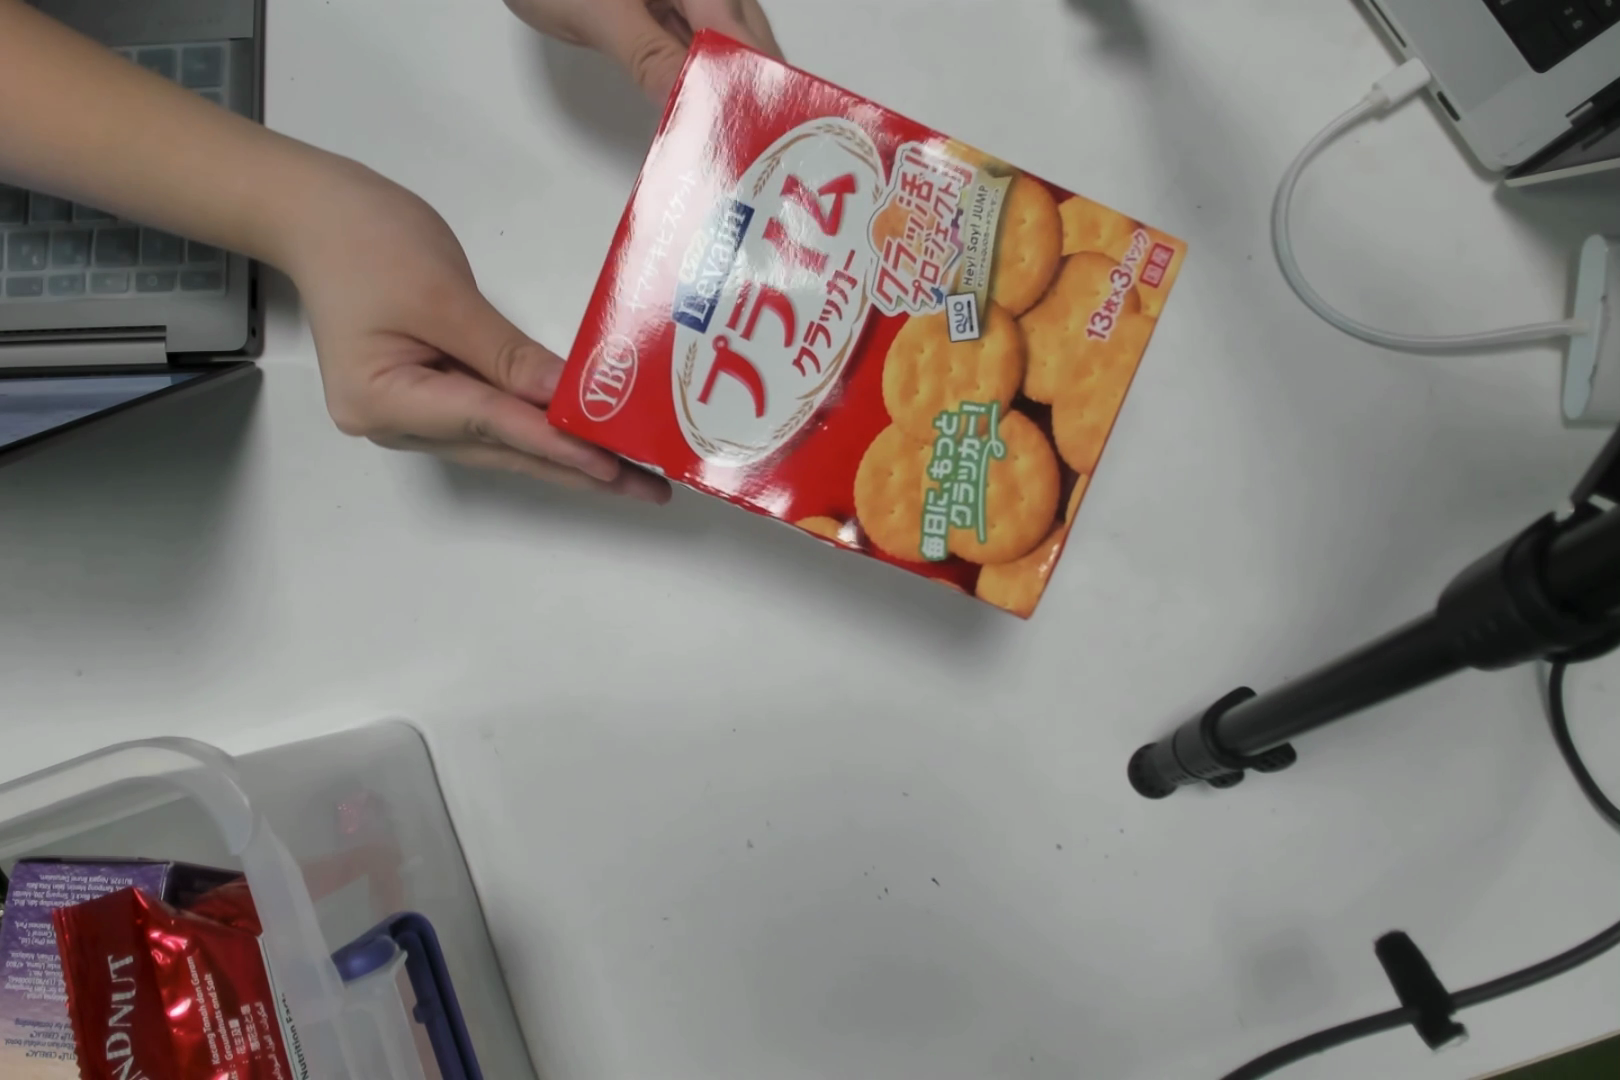c: (580, 106, 1181, 569)
